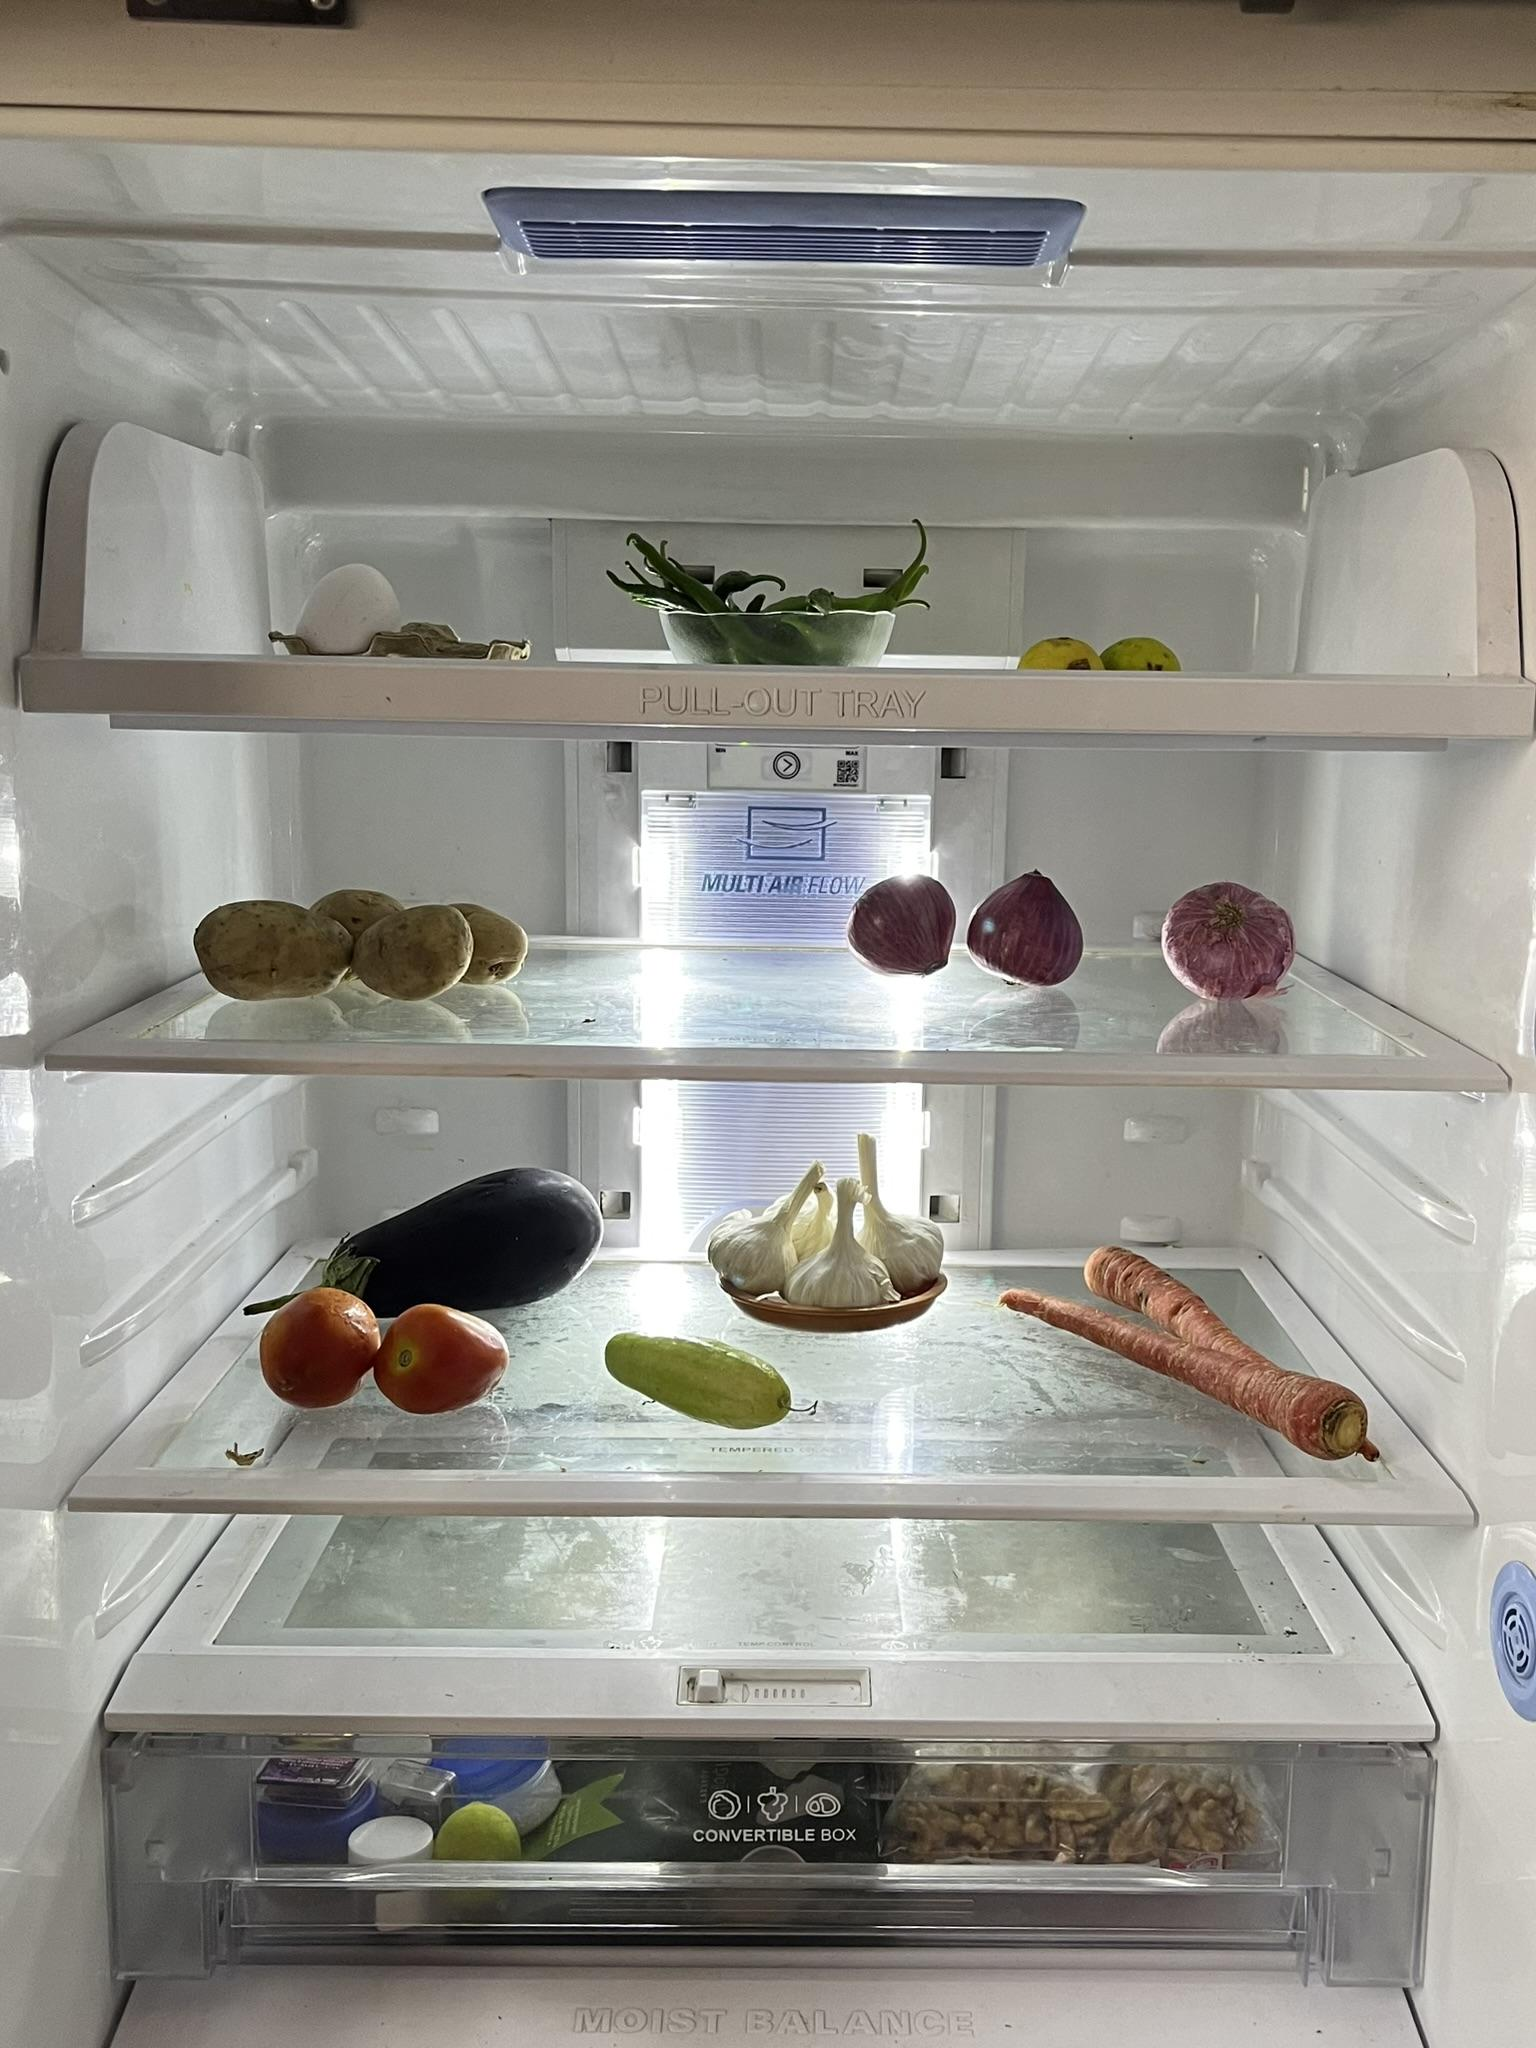bringal: (216, 1159, 607, 1334)
carrots: (1000, 1240, 1376, 1463)
chillies: (613, 524, 941, 647)
cucumber: (594, 1321, 800, 1437)
egg: (287, 556, 410, 653)
garlic: (707, 1121, 960, 1321)
lemon: (1013, 634, 1191, 666)
onion: (966, 856, 1107, 993), (1157, 884, 1297, 1009), (833, 874, 963, 987)
potato: (194, 887, 526, 990)
tomato: (381, 1293, 513, 1416), (257, 1284, 376, 1403)
